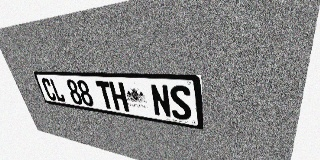8: (76, 80, 95, 107), (65, 79, 83, 105)
C: (40, 78, 57, 101)
H: (109, 81, 129, 112)
L: (49, 78, 66, 102)
N: (149, 84, 172, 118)
S: (169, 85, 192, 121)
T: (95, 81, 115, 110)
